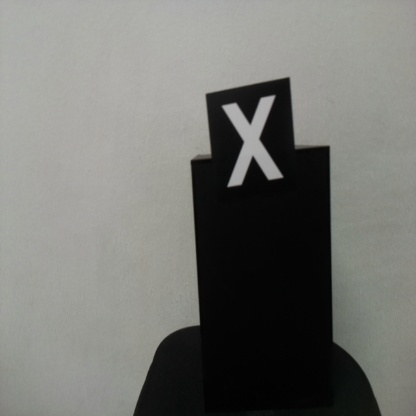id_13: (206, 91, 296, 203)
